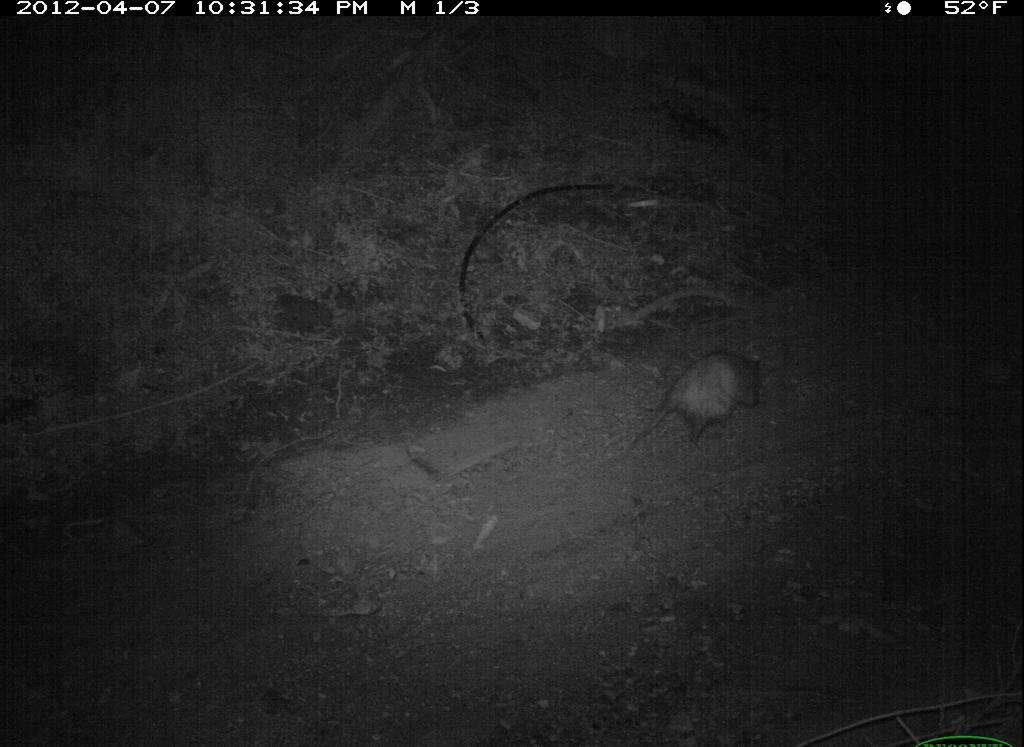opossum: (626, 345, 767, 457)
